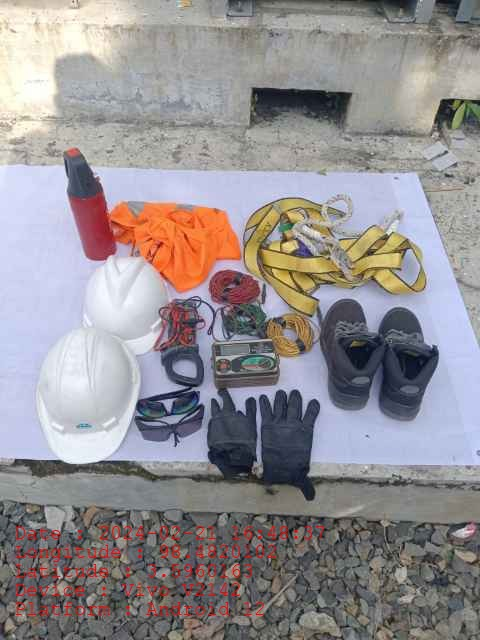HELM: (34, 332, 140, 463)
SARUNG TANGAN: (258, 391, 317, 489)
SEPATU: (324, 298, 438, 420)
TAMBANG_SLING: (239, 192, 430, 294)
